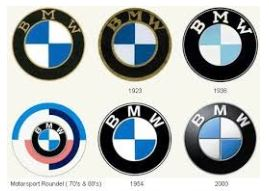bmw: (181, 4, 262, 85), (10, 101, 90, 179), (96, 101, 175, 179), (97, 7, 175, 84), (185, 101, 260, 178), (13, 7, 88, 83)
